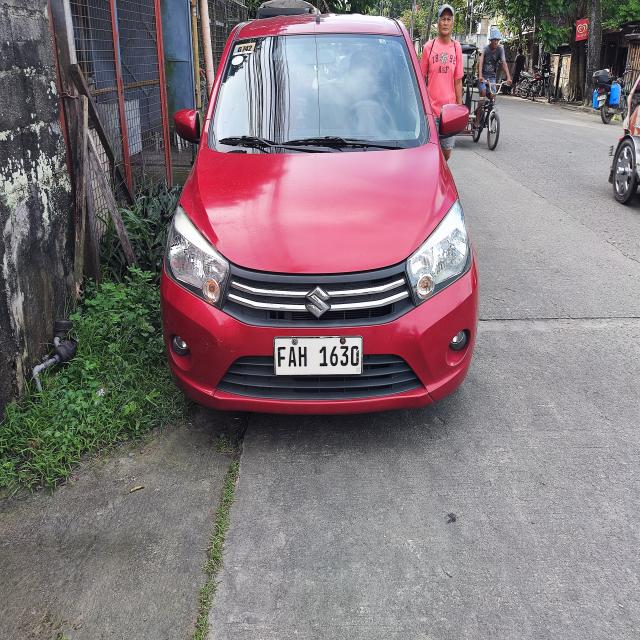plate: (273, 335, 363, 377)
